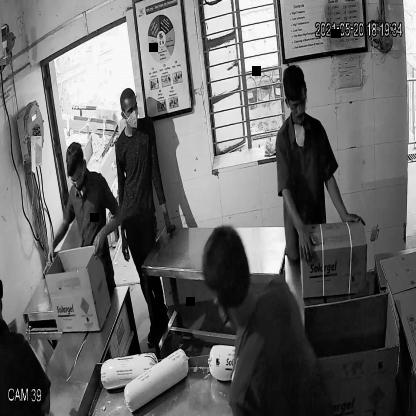no_goggles: (119, 103, 141, 117)
